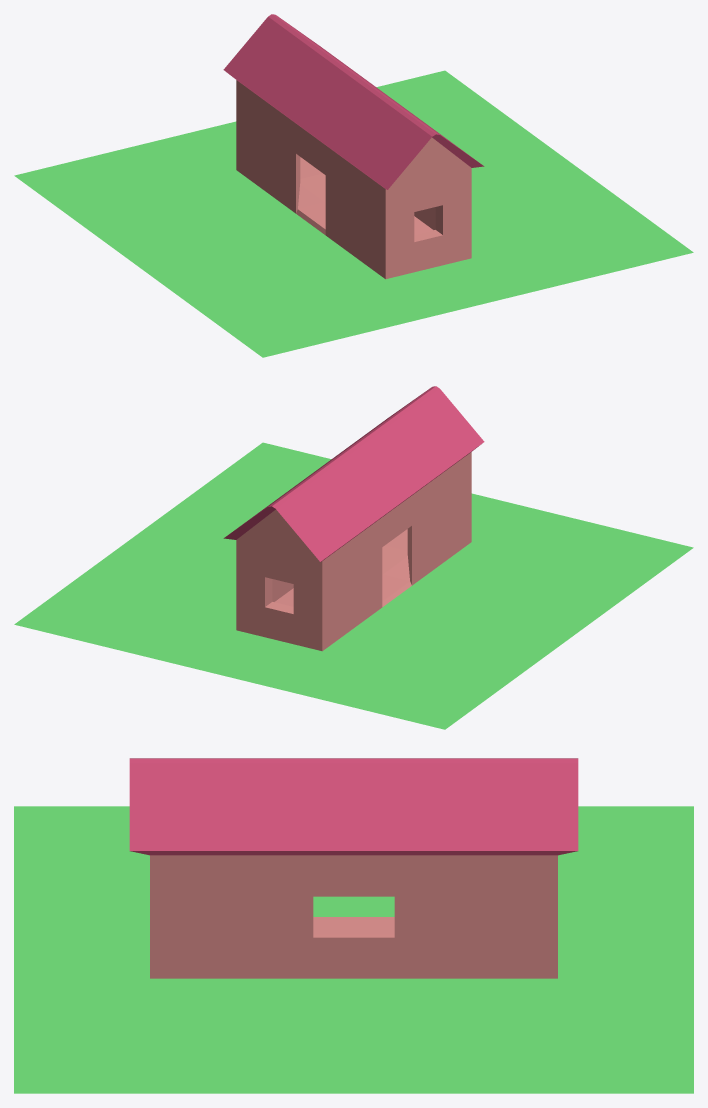
The model's file is house.fbx.
3 views of the same model, one above another, from view 1: azimuth 30°, elevation 25°; view 2: azimuth 150°, elevation 25°; view 3: azimuth 270°, elevation 25° (orthographic). The views are drawn at different scales.
Parts seen in each view (by area): view 1: grass, base, roof; view 2: grass, base, roof; view 3: grass, base, roof.
Part boxes in pixels (x1,y1,x2,y2): grass: (14,70,693,357); base: (236,80,471,279); roof: (223,14,484,189); grass: (14,442,693,729); base: (236,452,471,651); roof: (223,386,484,561); grass: (14,806,693,1093); base: (150,855,557,978); roof: (129,758,578,855).
Bounding box in the file's own units: 2000 × 620 × 2000.
